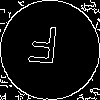F: (25, 25, 60, 73)
